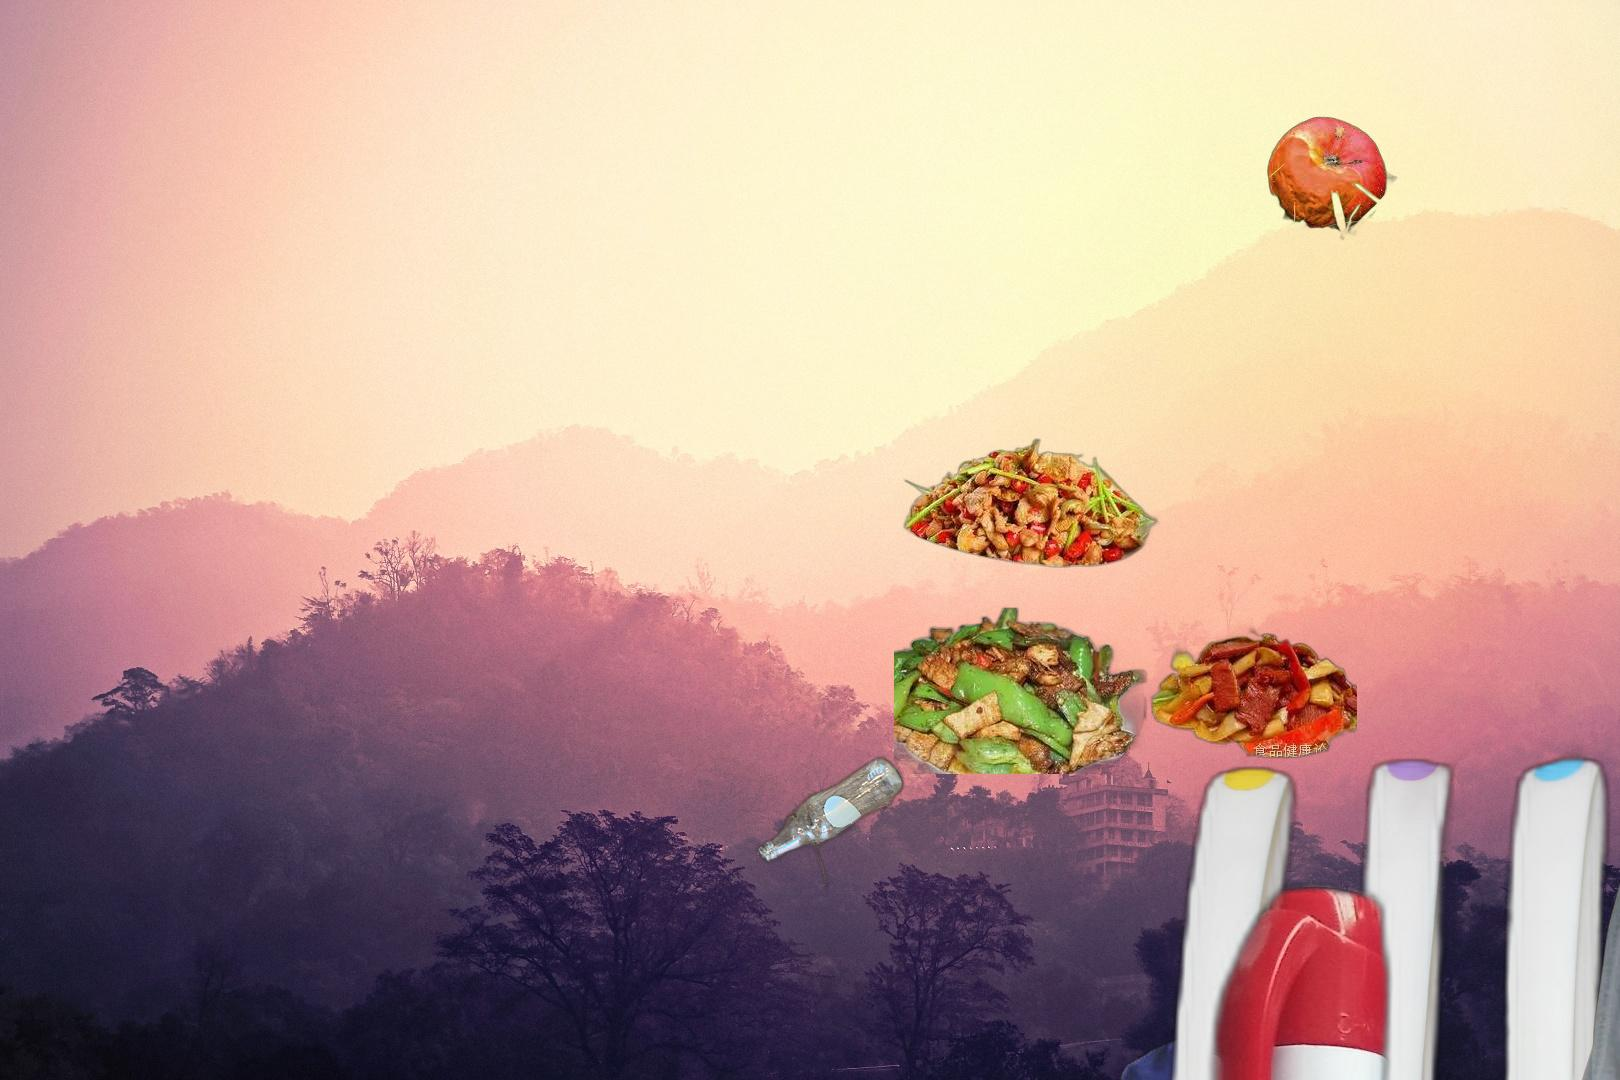biological: (894, 438, 1357, 774), (1264, 115, 1399, 241)
clothes: (1117, 1009, 1413, 1080), (1538, 835, 1620, 1080)
glass: (750, 751, 908, 896)
penholder: (1111, 673, 1620, 1080), (986, 871, 1620, 1080)
